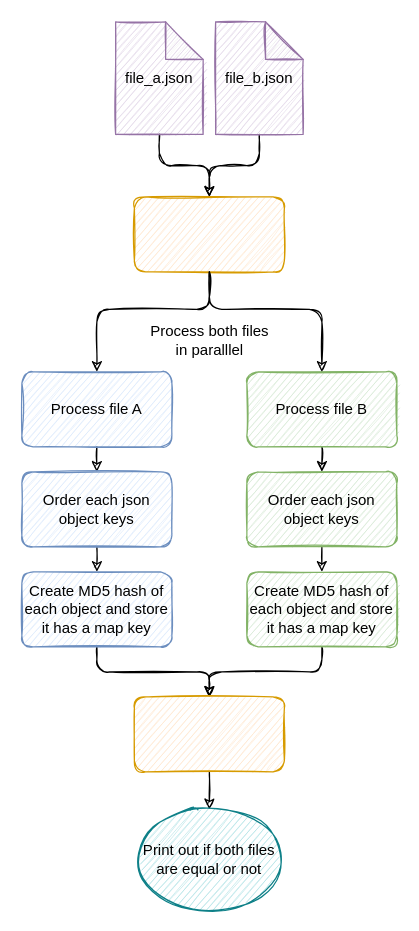
The diagram is 419 pixels wide and 931 high, and some of its shapes have lost their labels. Each missing label, with the centre of its shape:
Compare both hashmaps for equality: the point at 208,734
validate both exist and have the same size: the point at 208,234
